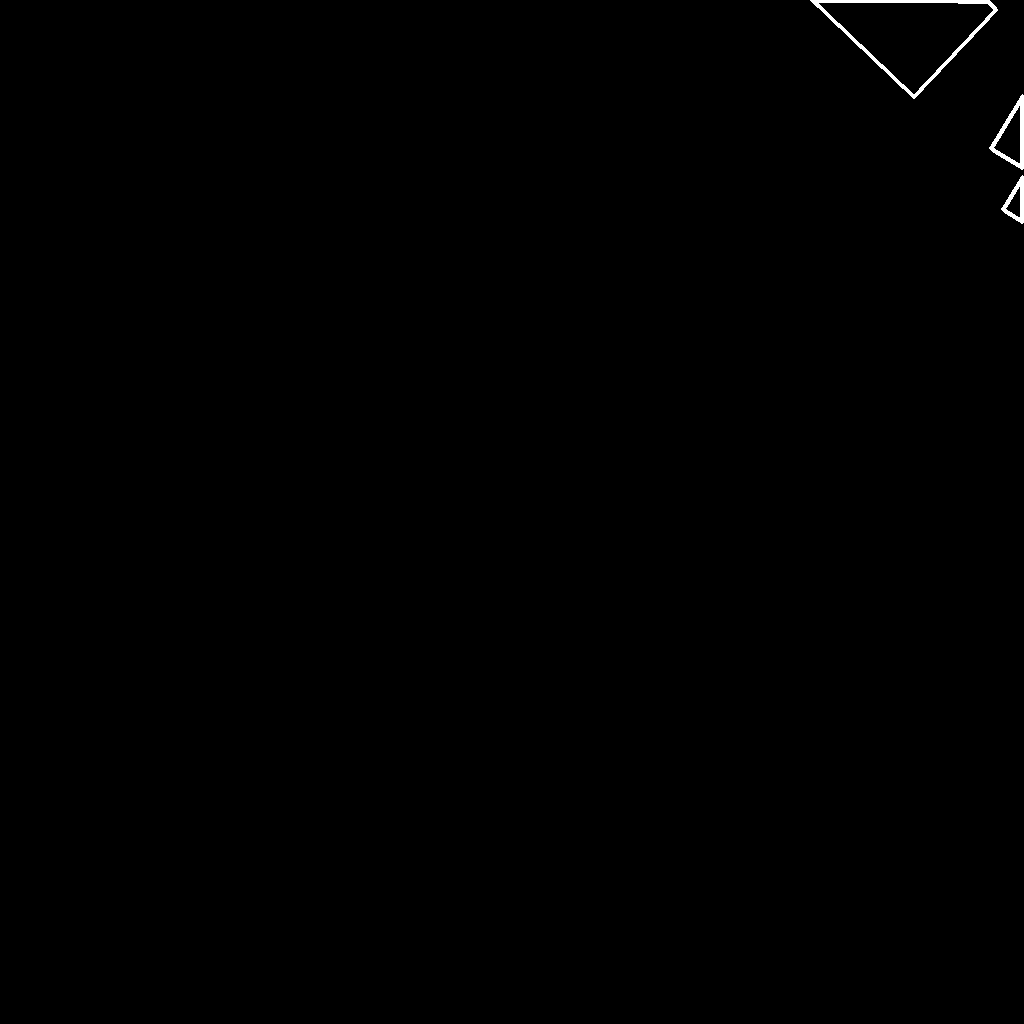building: (812, 0, 997, 98), (991, 96, 1024, 223)
